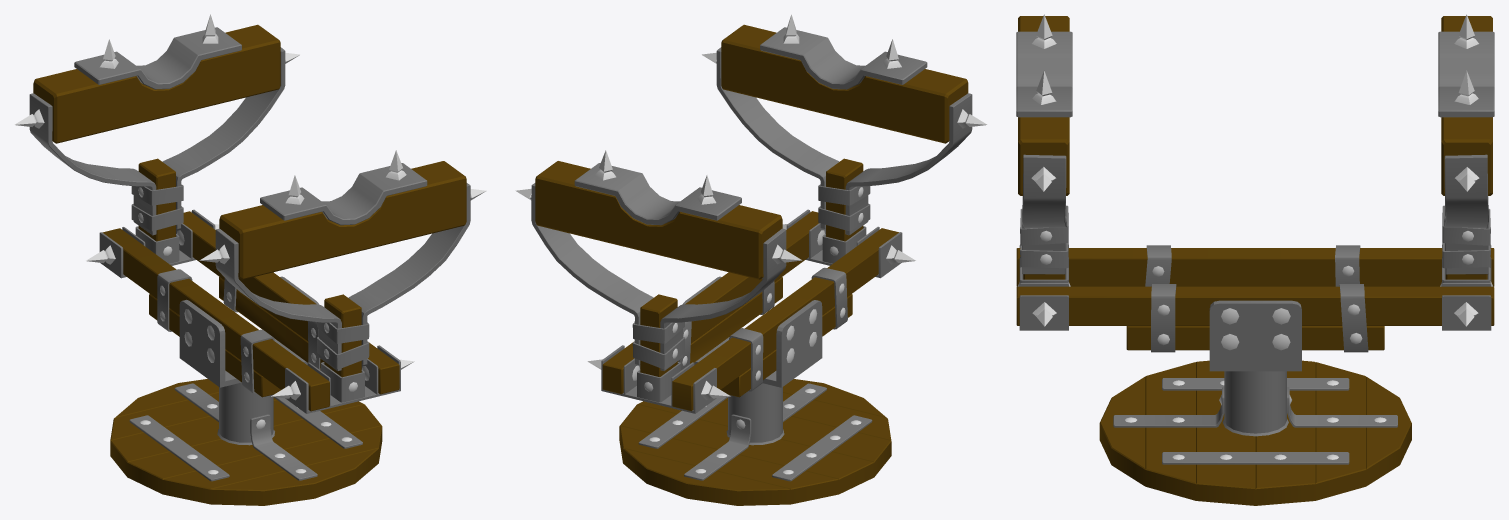
The model's file is Weapon_Frame.FBX.
The picture shows the model from 3 angles, left to right: view 1: azimuth 30°, elevation 25°; view 2: azimuth 150°, elevation 25°; view 3: azimuth 270°, elevation 25°; orthographic projection. The views are drawn at different scales.
Visible parts, largest first — view 1: Castle_Tower_Weapon_Frame; view 2: Castle_Tower_Weapon_Frame; view 3: Castle_Tower_Weapon_Frame.
Part boxes in pixels (box(x1,y1,x2,y2)): Castle_Tower_Weapon_Frame: box(14, 14, 486, 505); Castle_Tower_Weapon_Frame: box(515, 14, 987, 505); Castle_Tower_Weapon_Frame: box(1016, 14, 1494, 505).
Bounding box in the file's own units: 15.26 × 17.91 × 19.34.
